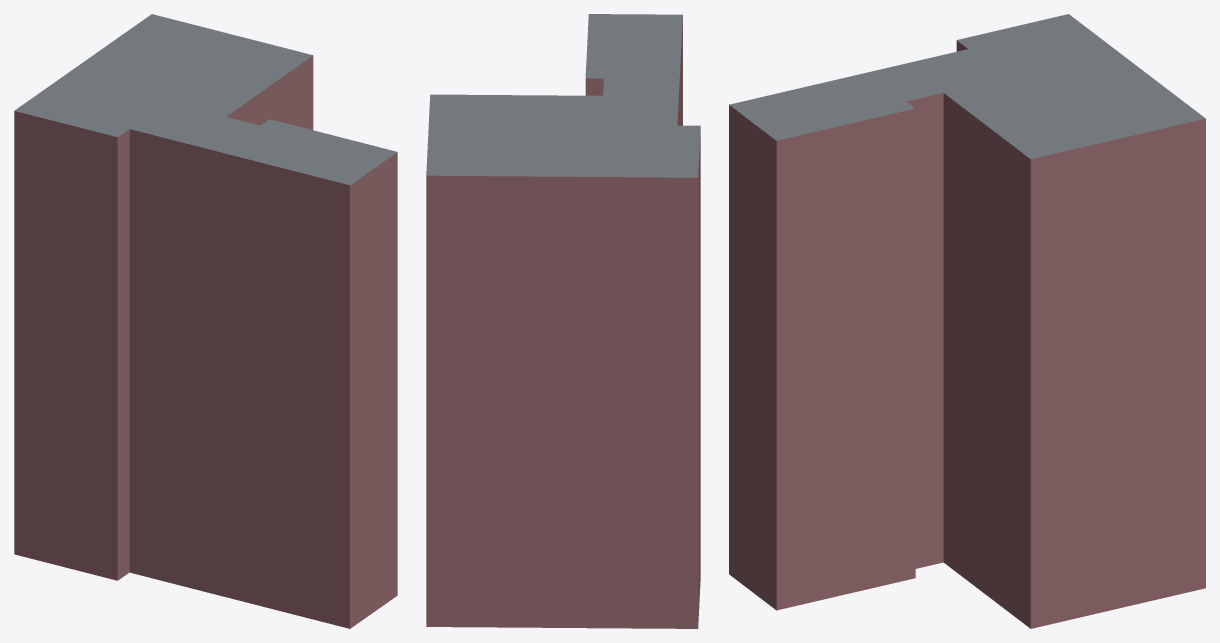
Rendered from nyc-1034206-0.glb.
3 views of the same model, side by side, from view 1: azimuth 30°, elevation 25°; view 2: azimuth 150°, elevation 25°; view 3: azimuth 270°, elevation 25° (orthographic). The views are drawn at different scales.
Parts seen in each view (by area): view 1: nyc-1034206-0; view 2: nyc-1034206-0; view 3: nyc-1034206-0.
Boxes of the visible parts, left/top/right/bottom form: nyc-1034206-0: left=14, top=14, right=397, bottom=628; nyc-1034206-0: left=426, top=14, right=700, bottom=628; nyc-1034206-0: left=729, top=14, right=1205, bottom=628.
Bounding box in the file's own units: 52.18 × 78.61 × 72.35.
